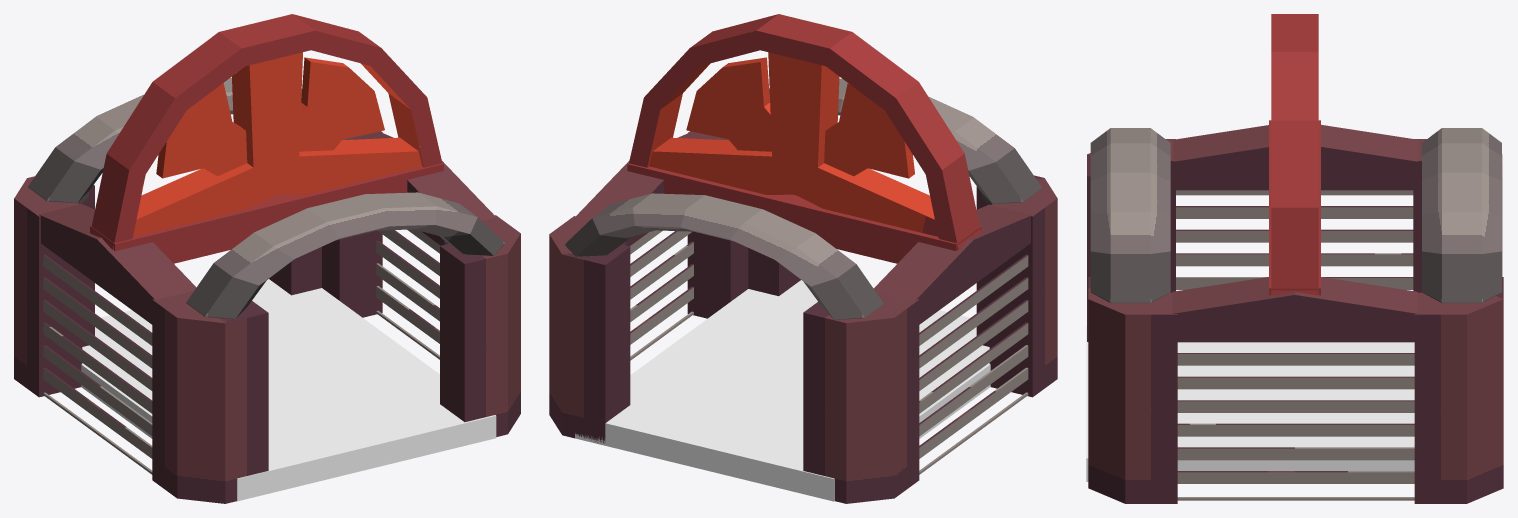
Rendered from Tomato.glb.
3 renders of one model, left to right at view 1: azimuth 30°, elevation 25°; view 2: azimuth 150°, elevation 25°; view 3: azimuth 270°, elevation 25°, orthographic. The views are drawn at different scales.
Visible parts, largest first — view 1: cuboid (×2), cylinder, Belt, torus (×2); view 2: cuboid (×2), cylinder, Belt, torus (×2); view 3: cuboid (×2), torus (×2), Belt, cylinder.
Part boxes in pixels (x1,y1,x2,y2): cuboid (×2): (14,131,520,503); cylinder: (90,14,443,263); Belt: (81,279,496,501); torus (×2): (28,77,505,318); cuboid (×2): (549,131,1057,503); cylinder: (627,14,981,263); Belt: (575,280,990,501); torus (×2): (564,78,1042,319); cuboid (×2): (1087,124,1503,503); torus (×2): (1090,128,1501,303); Belt: (1086,326,1414,481); cylinder: (1269,14,1320,295).
Bounding box in the file's own units: 0.9972 × 1.01 × 1.
2 materials, 1 textured.
